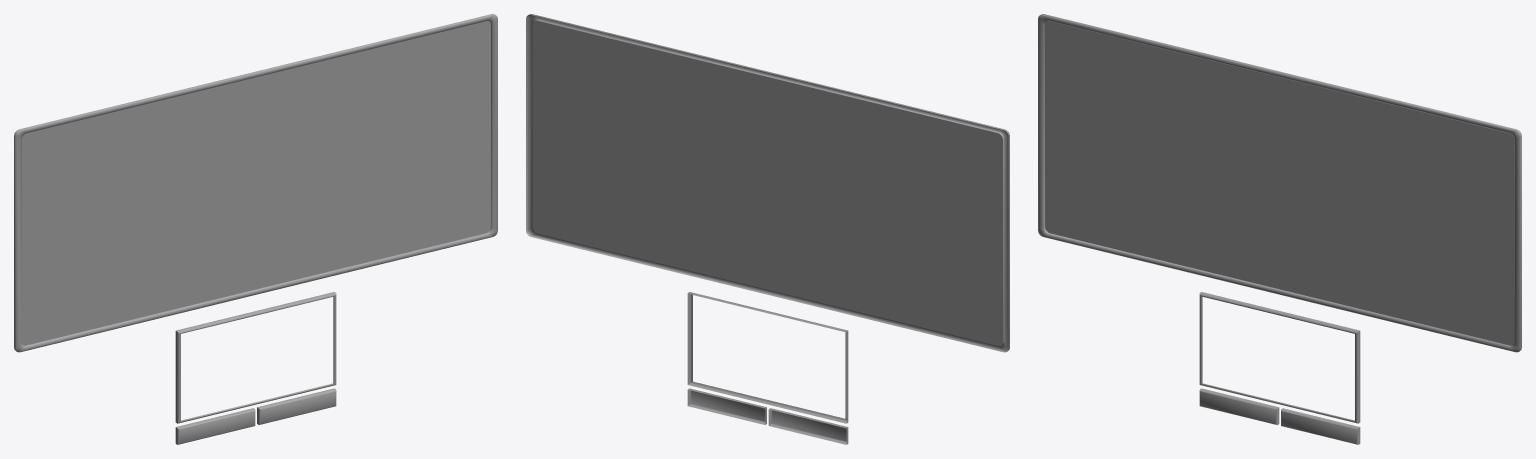
The model's file is MainMeshLaptop_28_0_GeomSubset_1.obj.
3 views of the same model, side by side, from view 1: azimuth 30°, elevation 25°; view 2: azimuth 150°, elevation 25°; view 3: azimuth 330°, elevation 25° (orthographic).
Parts seen in each view (by area): view 1: MainMeshLaptop_28_0_GeomSubset_1; view 2: MainMeshLaptop_28_0_GeomSubset_1; view 3: MainMeshLaptop_28_0_GeomSubset_1.
Boxes of the visible parts, <box> form: MainMeshLaptop_28_0_GeomSubset_1: <box>14,14,497,444</box>; MainMeshLaptop_28_0_GeomSubset_1: <box>526,14,1009,444</box>; MainMeshLaptop_28_0_GeomSubset_1: <box>1038,14,1521,444</box>.
Size of the model in its own units: 0.3413 by 0.2384 by 0.0224.
